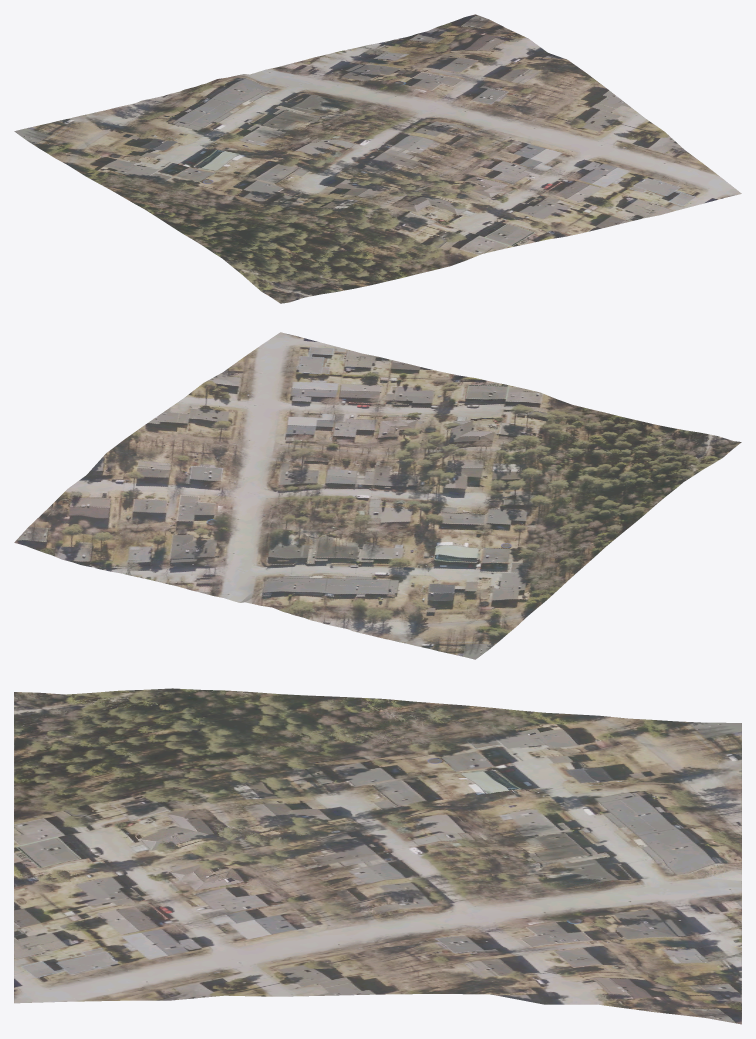
File: CM_Terrain_24491687_6817132.fbx
3 renders of one model, top to bottom at view 1: azimuth 30°, elevation 25°; view 2: azimuth 150°, elevation 25°; view 3: azimuth 270°, elevation 25°, orthographic. The views are drawn at different scales.
Parts seen in each view (by area): view 1: CM_Terrain_24491687_6817132_LOD0; view 2: CM_Terrain_24491687_6817132_LOD0; view 3: CM_Terrain_24491687_6817132_LOD0.
Part boxes in pixels (x1=…): CM_Terrain_24491687_6817132_LOD0: x1=14, y1=14, x2=741, y2=303; CM_Terrain_24491687_6817132_LOD0: x1=14, y1=332, x2=741, y2=659; CM_Terrain_24491687_6817132_LOD0: x1=14, y1=688, x2=741, y2=1024.
Size of what is drawn, in the model's own units: 205 by 12.13 by 205.
